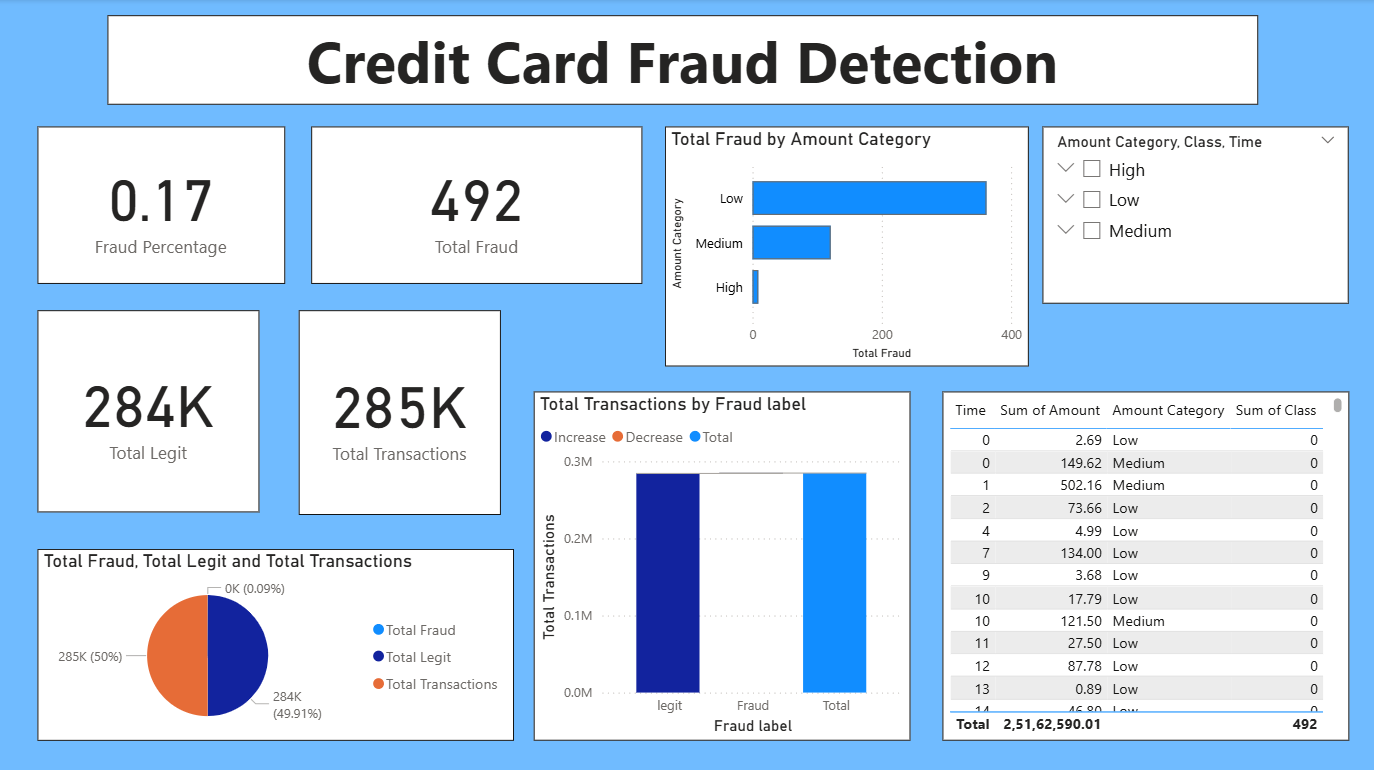

Layout of this report page (visuals, bound fields, positions):
{"tool":"powerbi","page":{"name":"Page 1","canvas":[1280,720],"ordinal":0},"visuals":[{"type":"card","fields":{"Values":["Dax.Fraud Percentage"]},"box":[35,118.3,230,146.7],"z":0},{"type":"card","fields":{"Values":["Dax.Total Legit"]},"box":[35,290,206.7,188.3],"z":1000},{"type":"card","fields":{"Values":["Dax.Total Transactions"]},"box":[278.3,290,188.3,190],"z":2000},{"type":"card","fields":{"Values":["Dax.Total Fraud"]},"box":[290,118.3,308.3,146.7],"z":3000},{"type":"waterfallChart","fields":{"Category":["creditcard.Fraud label"],"Y":["Dax.Total Transactions"]},"box":[496.7,365,350,325],"z":4000},{"type":"clusteredBarChart","fields":{"Category":["creditcard.Amount Category"],"Y":["Dax.Total Fraud"]},"box":[618.3,118.3,338.3,223.3],"z":5000},{"type":"tableEx","fields":{"Values":["creditcard.Time","Sum(creditcard.Amount)","creditcard.Amount Category","Sum(creditcard.Class)"]},"box":[876.7,365,378.3,325],"z":6000},{"type":"slicer","fields":{"Values":["creditcard.Amount Category","creditcard.Class","creditcard.Time"]},"box":[970,118.3,285,165],"z":7000},{"type":"pieChart","fields":{"Y":["Dax.Total Fraud","Dax.Total Legit","Dax.Total Transactions"]},"box":[35,511.7,443.3,178.3],"z":8000},{"type":"textbox","box":[100,15,1070,83.3],"z":9000}]}

Visuals, with their boxes in screenshot pixels (x1, y1, x2, y2), scaled from the page's 1280x720 canvas onto the 1374x770 screenshot:
card - Dax.Fraud Percentage: [38, 127, 284, 283]
card - Dax.Total Legit: [38, 310, 259, 512]
card - Dax.Total Transactions: [299, 310, 501, 513]
card - Dax.Total Fraud: [311, 127, 642, 283]
waterfallChart - creditcard.Fraud label x Dax.Total Transactions: [533, 390, 909, 738]
clusteredBarChart - creditcard.Amount Category x Dax.Total Fraud: [664, 127, 1027, 365]
tableEx - creditcard.Time x Sum(creditcard.Amount): [941, 390, 1347, 738]
slicer - creditcard.Amount Category x creditcard.Class: [1041, 127, 1347, 303]
pieChart - Dax.Total Fraud x Dax.Total Legit: [38, 547, 513, 738]
textbox: [107, 16, 1256, 105]
